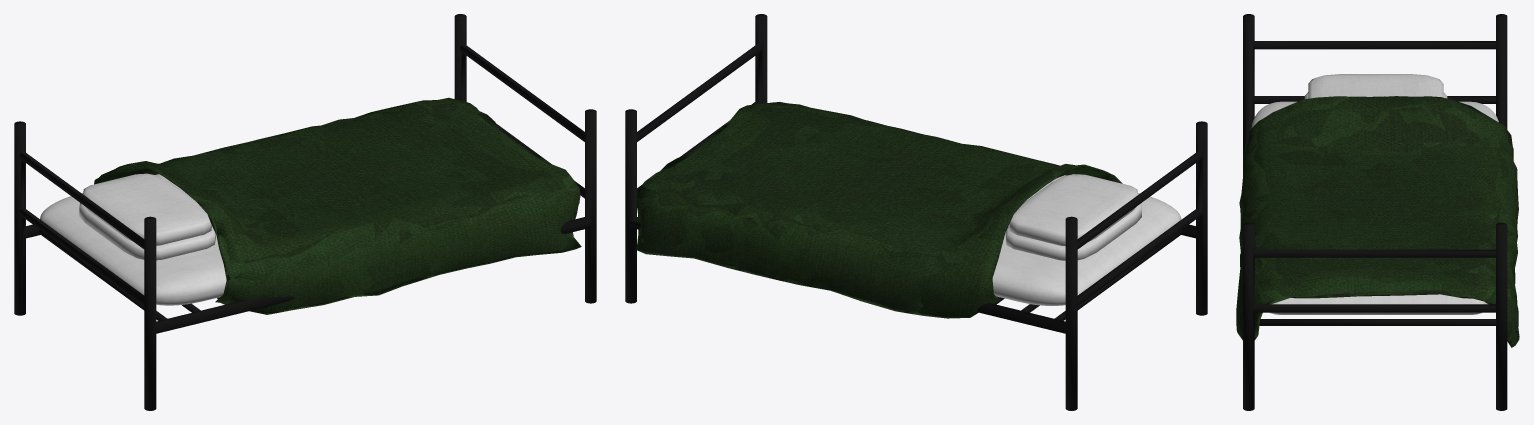
3 renders of one model, left to right at view 1: azimuth 30°, elevation 25°; view 2: azimuth 150°, elevation 25°; view 3: azimuth 270°, elevation 25°, orthographic. The views are drawn at different scales.
Visible parts, largest first — view 1: Duvet_0, Metal Bedstead_4, Matress_3, Piillow 1_1, Pillow 2_2; view 2: Duvet_0, Metal Bedstead_4, Matress_3, Piillow 1_1, Pillow 2_2; view 3: Duvet_0, Metal Bedstead_4, Piillow 1_1, Matress_3.
Boxes of the visible parts, bbox=[...] form: Duvet_0: bbox=[94, 97, 581, 314]; Metal Bedstead_4: bbox=[14, 14, 596, 410]; Matress_3: bbox=[40, 174, 226, 305]; Piillow 1_1: bbox=[83, 173, 211, 245]; Pillow 2_2: bbox=[79, 203, 215, 260]; Duvet_0: bbox=[635, 102, 1122, 318]; Metal Bedstead_4: bbox=[625, 14, 1207, 410]; Matress_3: bbox=[992, 175, 1181, 305]; Piillow 1_1: bbox=[1009, 174, 1138, 246]; Pillow 2_2: bbox=[1005, 203, 1141, 260]; Duvet_0: bbox=[1236, 96, 1519, 347]; Metal Bedstead_4: bbox=[1243, 14, 1507, 410]; Piillow 1_1: bbox=[1308, 74, 1443, 98]; Matress_3: bbox=[1251, 101, 1498, 314].
Bounding box in the file's own units: 14.55 × 5.83 × 8.15.
Materials: 3 (3 with a texture image).
